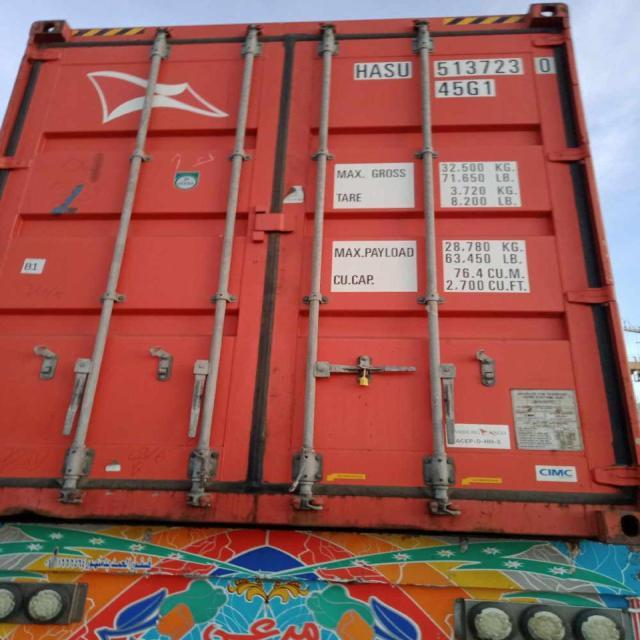ISO: (439, 80, 498, 100)
container_number: (358, 55, 551, 79)
